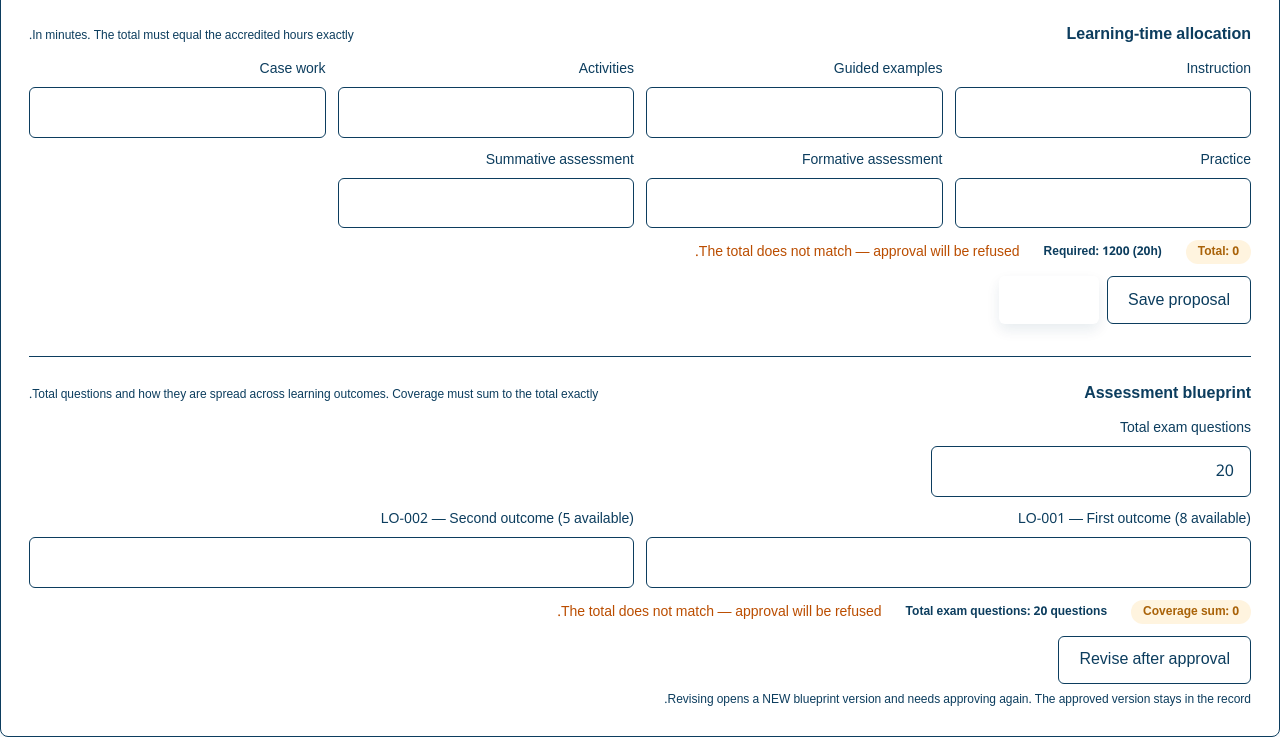
it: PublicationGatesPanel › an approved gate stays correctable, because approval can be wrong
(page scrolled)
Expected: the number field labelled "Total exam questions" is disabled, [931,446,1251,497]
Step 1. Click the button "Revise after approval" → click(1155, 660), box [1058,636,1251,684]
(page scrolled)
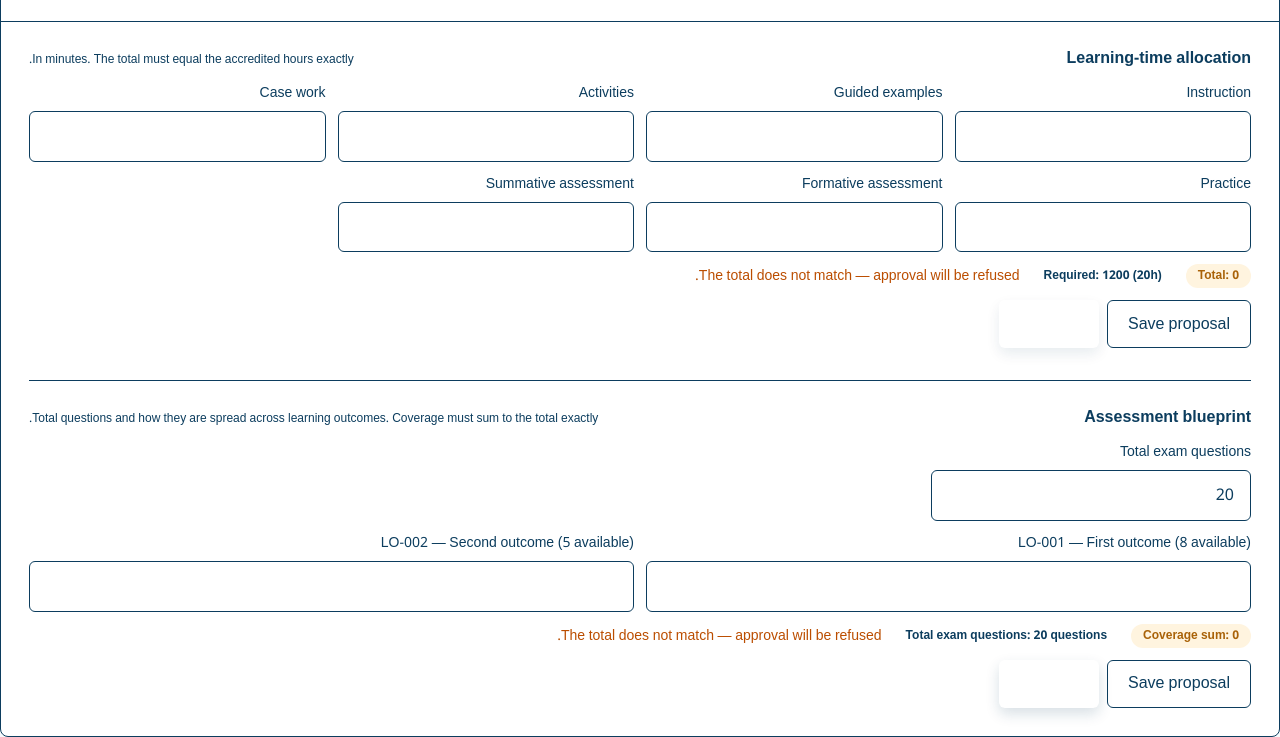
Now the number field labelled "Total exam questions" is enabled, box [931,470,1251,521]
Now the button "Save proposal" below "Coverage sum" is shown, box [1107,660,1251,708]
